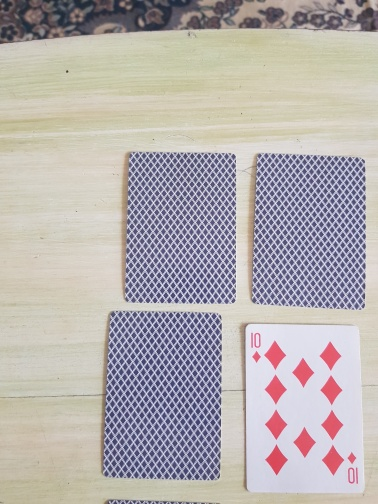ten: (244, 322, 366, 494)
